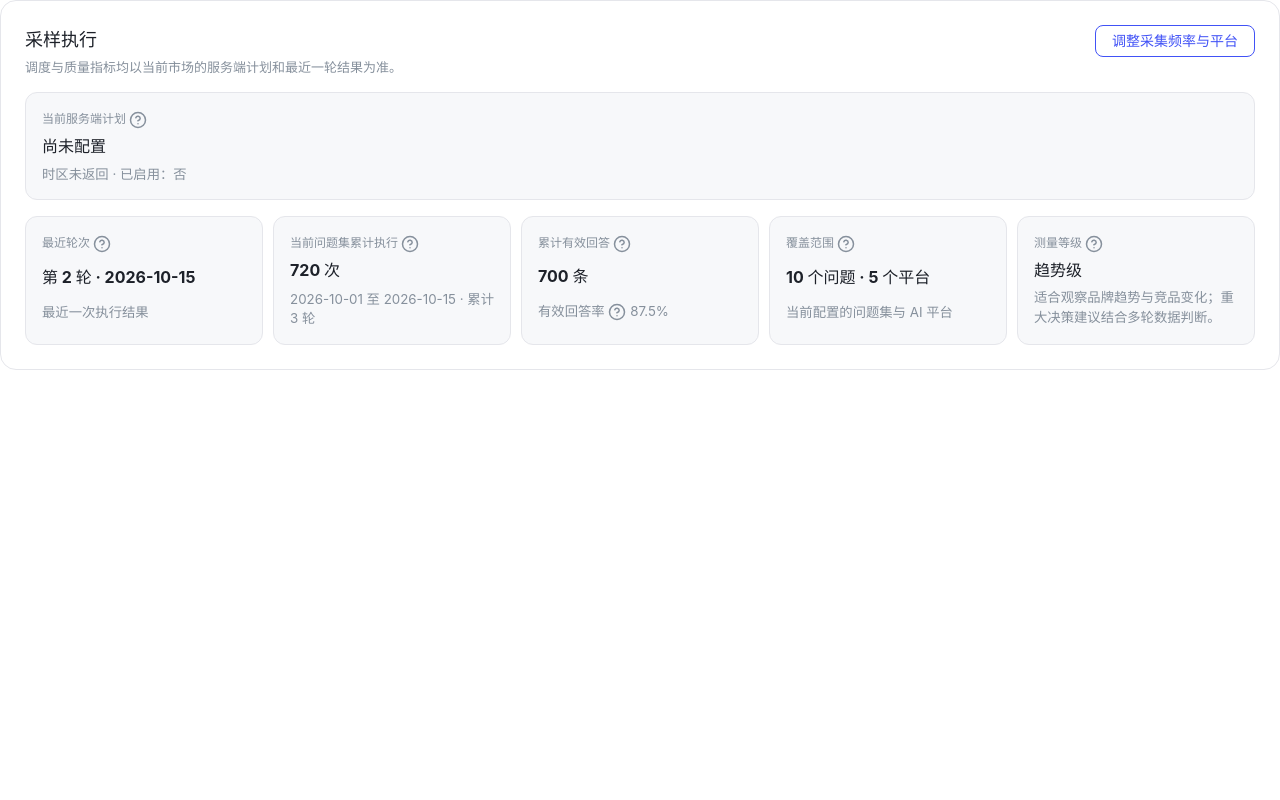
Test: sampling trust section › opens a compact customer-facing explanation for the measurement tier
The width and height of the screenshot is (1280, 800).
Click the 6th button with class "metric-definition__trigger" at [1094, 244], box [1085,235,1103,253]
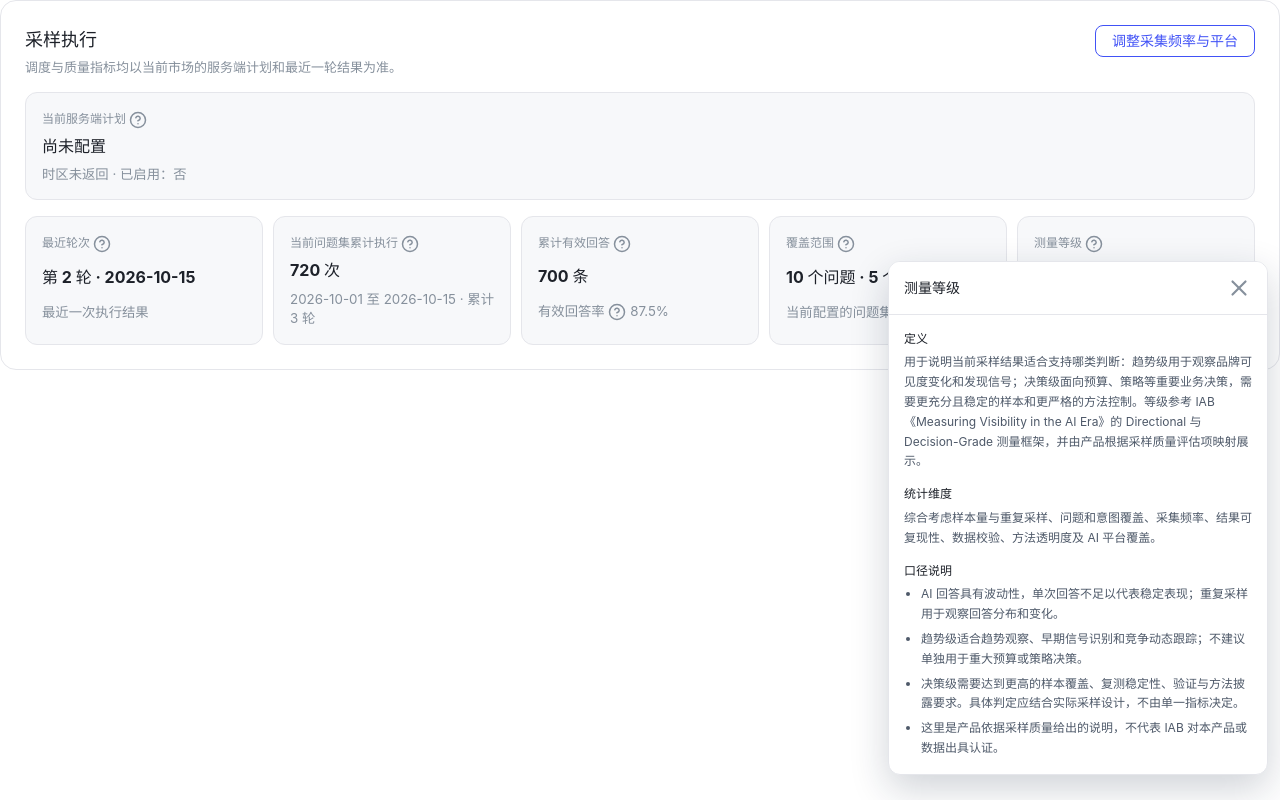
expect the text "采集频率" is shown: met, box [1112,32,1238,49]
expect the text "不代表 IAB 对本产品或数据出具认证" is shown: met, box [921,720,1247,755]
